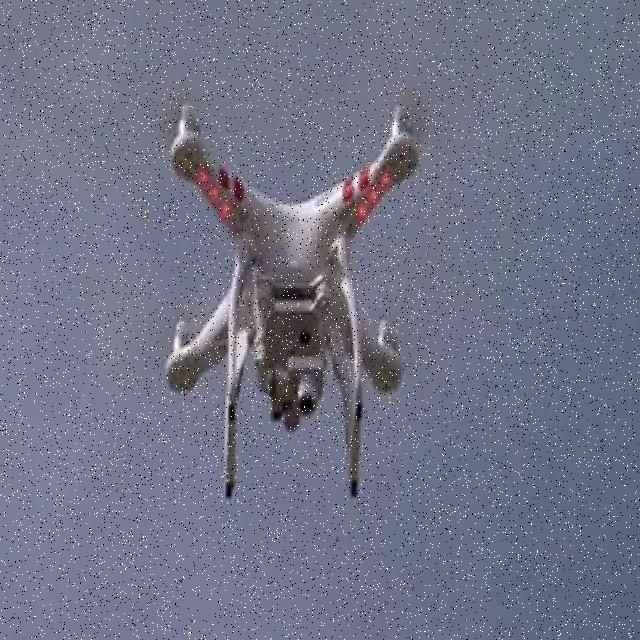UAV: (161, 107, 422, 510)
